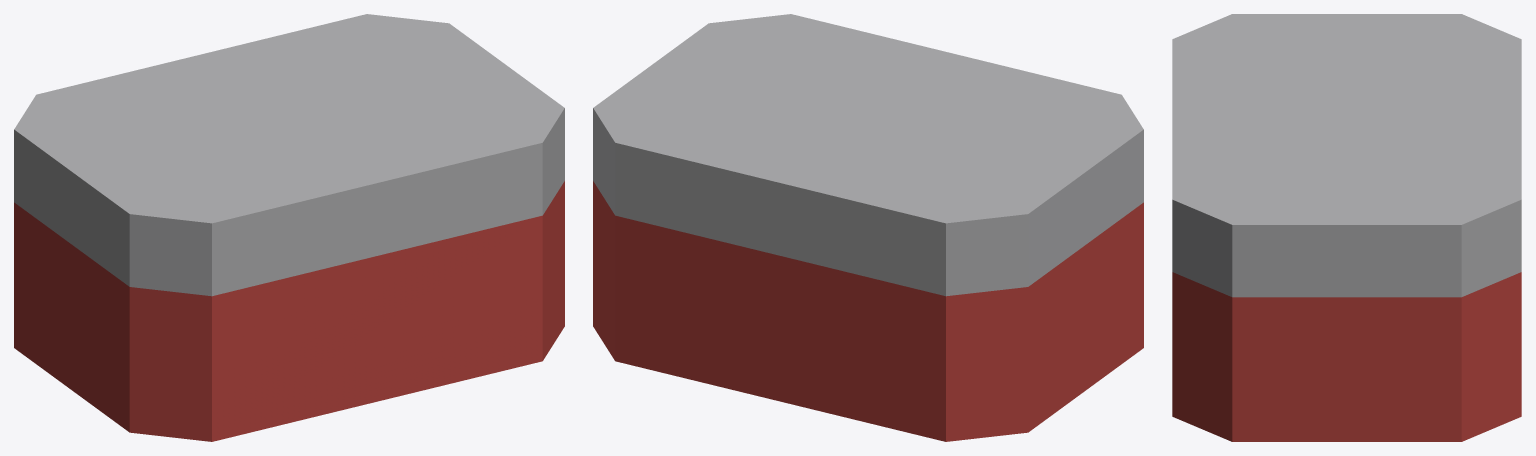
The model's file is ceramic_lod1.glb.
The picture shows the model from 3 angles, left to right: view 1: azimuth 30°, elevation 25°; view 2: azimuth 150°, elevation 25°; view 3: azimuth 270°, elevation 25°; orthographic projection.
Visible parts, largest first — view 1: ceramic_lod1; view 2: ceramic_lod1; view 3: ceramic_lod1.
Part boxes in pixels (box(x1,y1,x2,y2)): ceramic_lod1: box(14, 14, 564, 441); ceramic_lod1: box(593, 14, 1143, 441); ceramic_lod1: box(1172, 14, 1521, 441).
Size of the model in its own units: 0.05 by 0.024 by 0.035.
